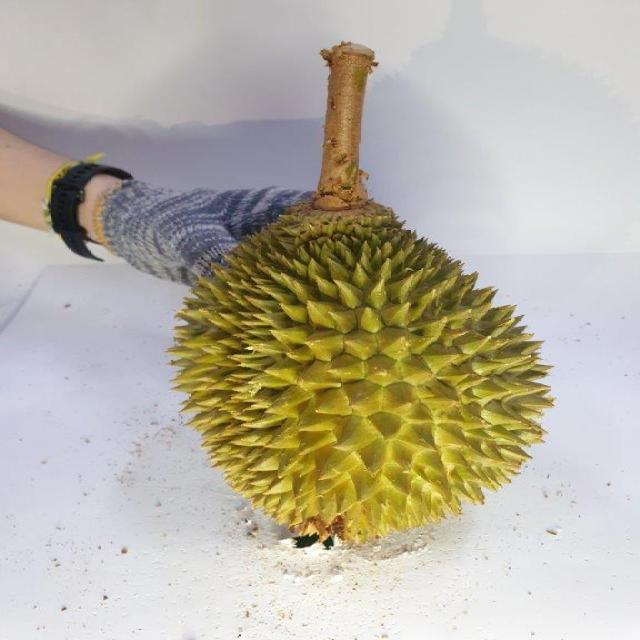immature: (167, 207, 557, 546)
